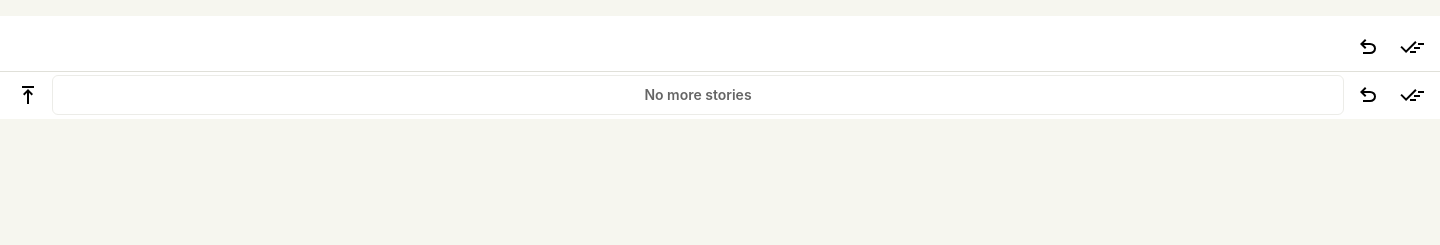
Test: <StoryList> auto-dismiss on scroll › restores the whole scroll burst with one Undo
Later steps or results of the test are not shown.
Check: the text "Story 10" is not shown
Check: the text "Story 20" is not shown
Note: One Undo restores BOTH dismissed-by-scroll rows (same 2s batch).
Step 1. Click the button with test id "undo-btn-bottom" → [1368, 95], box [1348, 75, 1388, 115]
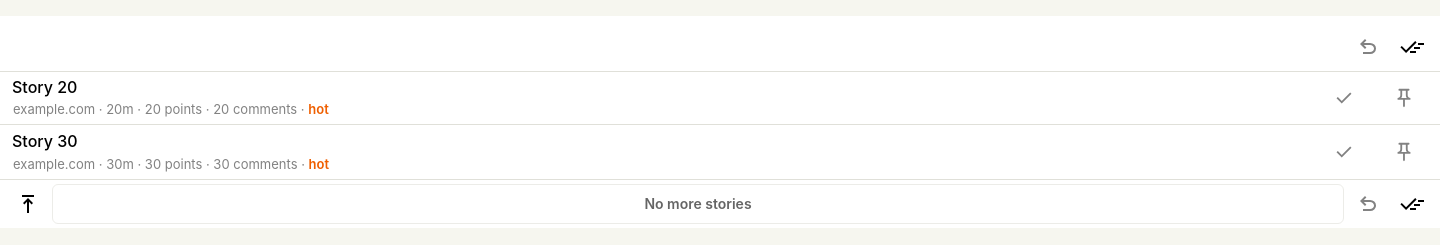
Check: the text "Story 20" is shown, box [12, 77, 77, 97]
